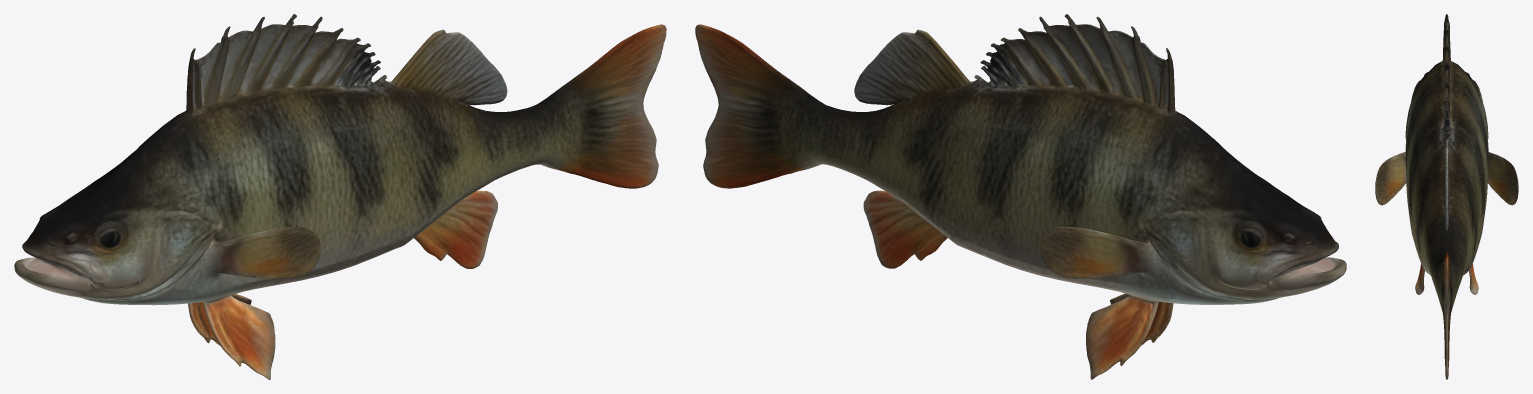
Rendered from kala_high.glb.
3 renders of one model, left to right at view 1: azimuth 30°, elevation 25°; view 2: azimuth 150°, elevation 25°; view 3: azimuth 270°, elevation 25°, orthographic. The views are drawn at different scales.
Parts seen in each view (by area): view 1: world; view 2: world; view 3: world.
Part boxes in pixels (box(x1,y1,x2,y2)): world: box(14, 14, 666, 379); world: box(695, 14, 1346, 379); world: box(1375, 14, 1518, 379).
Bounding box in the file's own units: 1.96 × 1 × 0.4811.
1 material, 1 textured.
